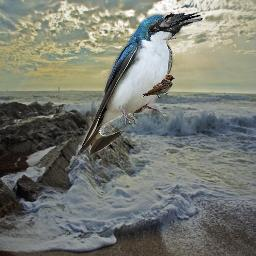Crow: (146, 12, 203, 40)
Swallow: (76, 14, 182, 158), (141, 74, 175, 99)
